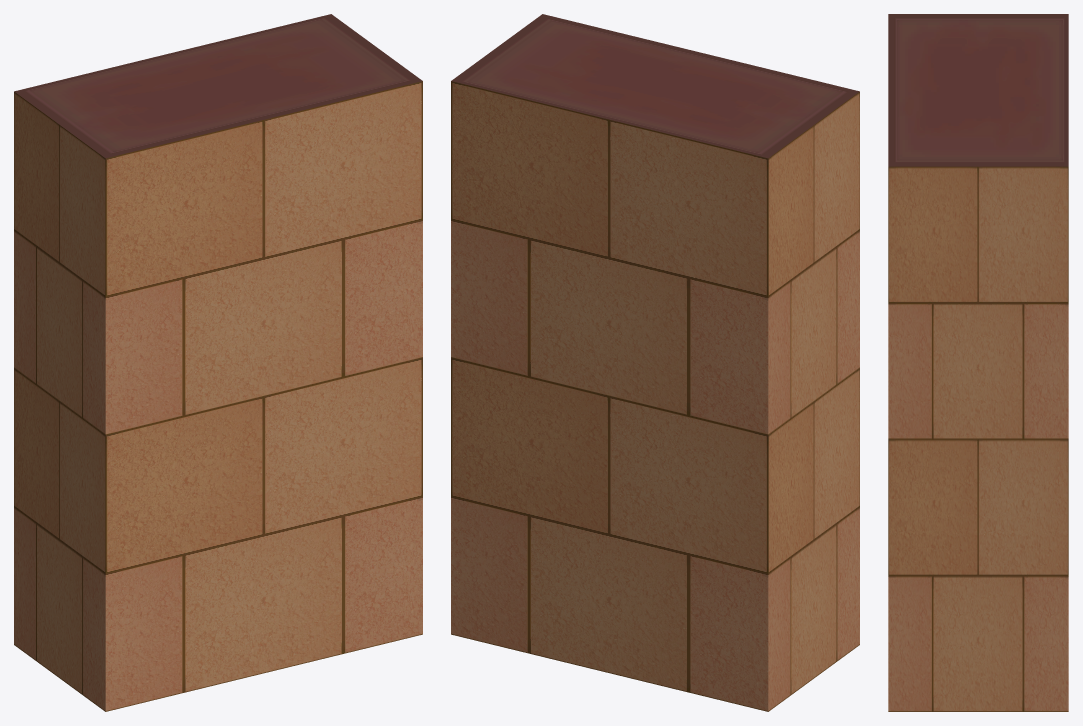
File: WallBlock 297.fbx
3 renders of one model, left to right at view 1: azimuth 30°, elevation 25°; view 2: azimuth 150°, elevation 25°; view 3: azimuth 270°, elevation 25°, orthographic.
Parts seen in each view (by area): view 1: WallBlock 297; view 2: WallBlock 297; view 3: WallBlock 297.
Boxes of the visible parts, x1,y1,x2,y2 form: WallBlock 297: [14, 14, 422, 711]; WallBlock 297: [451, 14, 859, 711]; WallBlock 297: [888, 14, 1068, 711].
Size of the model in its own units: 1.2 by 2 by 0.6.
